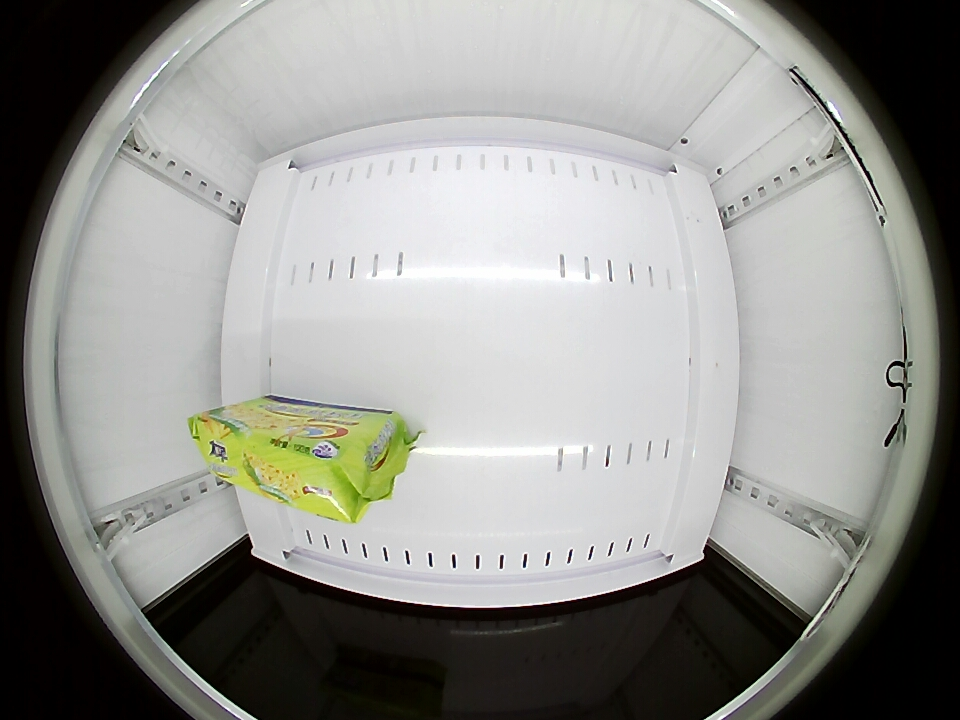taipingshuda: (190, 403, 387, 523)
